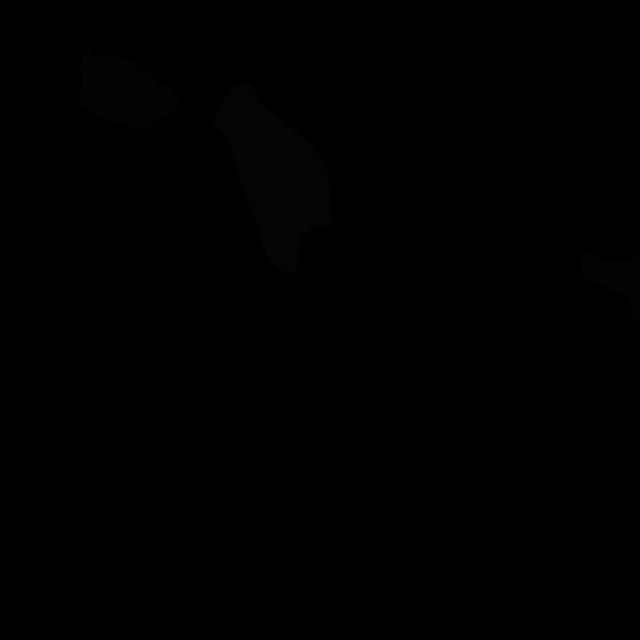cardboard: (78, 46, 180, 129), (578, 250, 639, 336)
soft_plastic: (212, 83, 332, 272)
